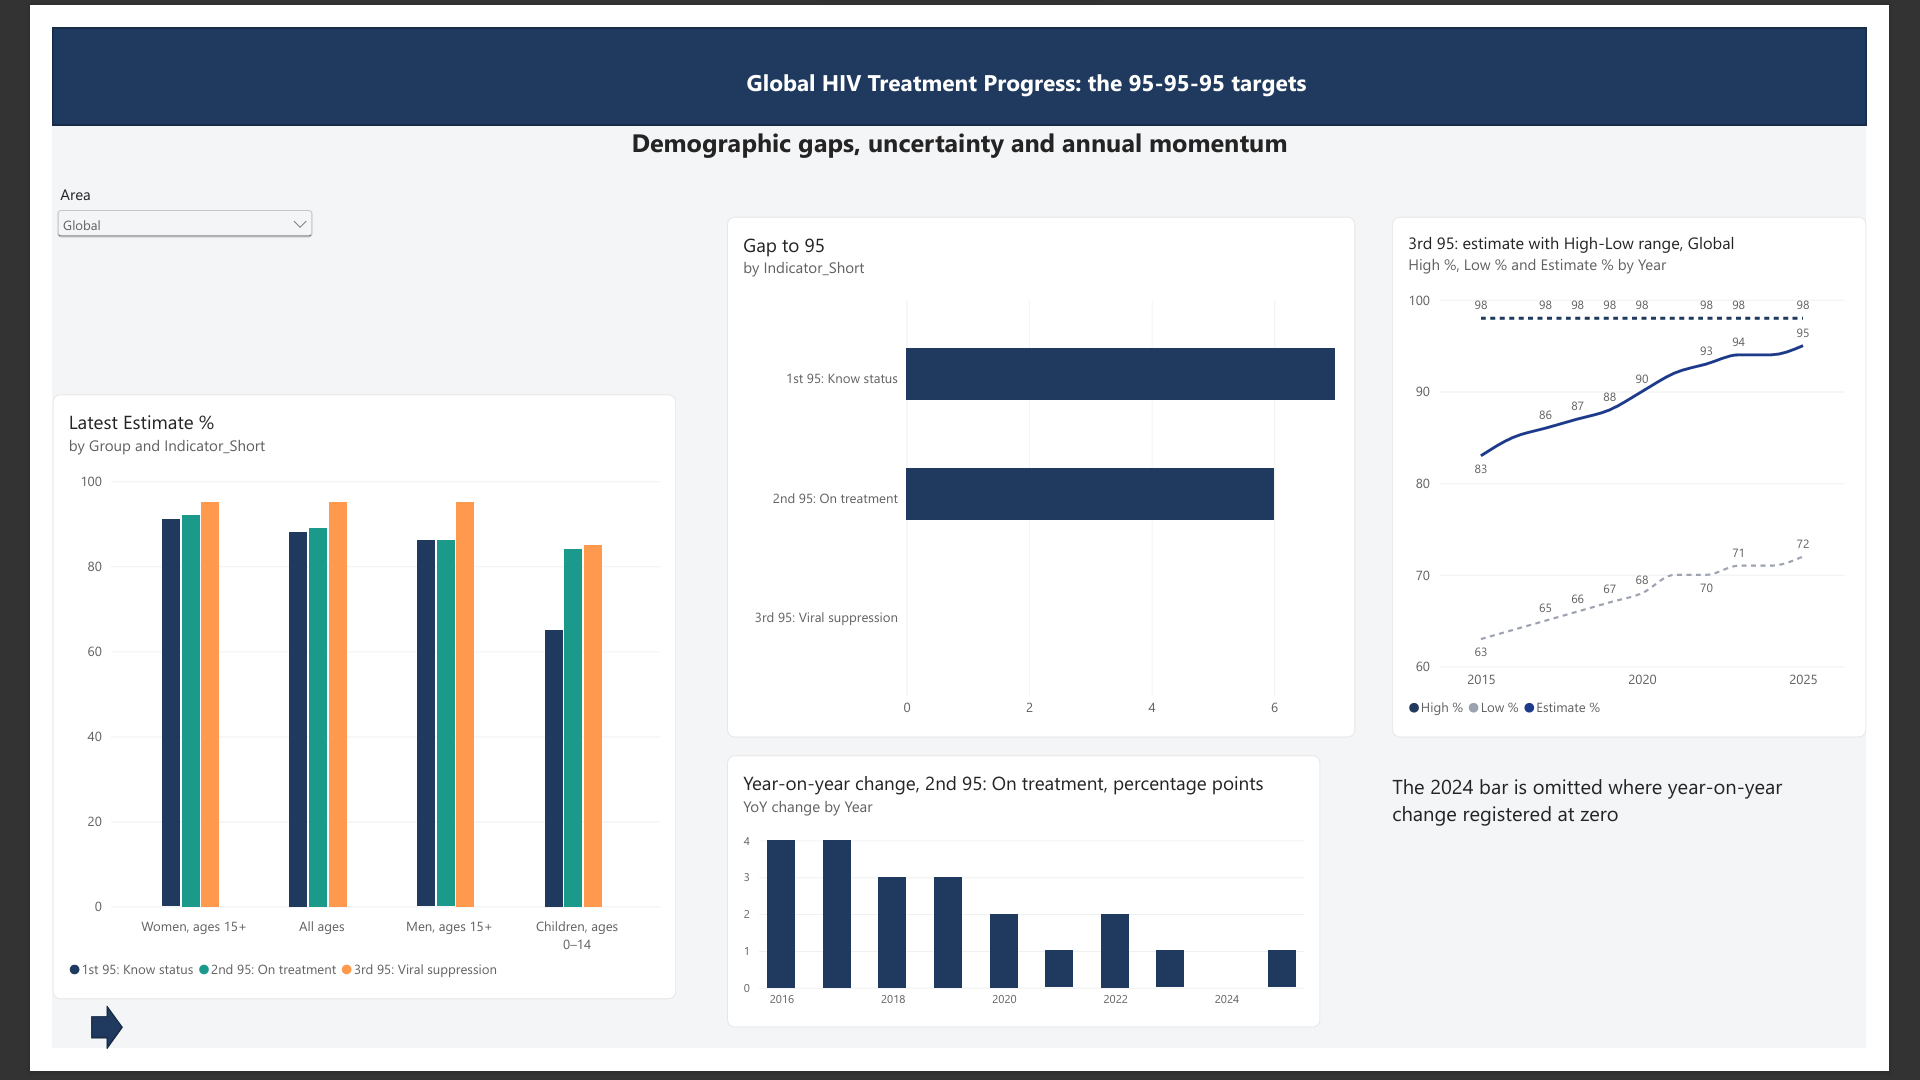

Layout of this report page (visuals, bound fields, positions):
{"tool":"powerbi","page":{"name":"Who is left behind","canvas":[1920,1080],"ordinal":2},"visuals":[{"type":"shape","box":[0,0,1920,102.5],"z":0},{"type":"textbox","box":[393.1,41.2,1276.2,144.1],"z":1000},{"type":"shape","box":[41.2,1035.3,32.9,45.3],"z":2000},{"type":"shape","box":[41.2,1034.7,32.9,45.3],"z":3000},{"type":"slicer","fields":{"Values":["HIV_Data.Area"]},"box":[0,165,280,202.5],"z":4000},{"type":"clusteredColumnChart","fields":{"Category":["HIV_Data.Group"],"Series":["HIV_Data.Indicator_Short"],"Y":["HIV_Data.Latest Estimate %"]},"box":[0,387.5,660,640],"z":5000},{"type":"barChart","fields":{"Category":["HIV_Data.Indicator_Short"],"Y":["HIV_Data.Gap to 95"]},"box":[714.2,199.7,664.8,551.6],"z":6000},{"type":"lineChart","title":"3rd 95: estimate with High-Low range, Global ","fields":{"Category":["HIV_Data.Year"],"Y":["HIV_Data.High %","HIV_Data.Low %","HIV_Data.Estimate %"]},"box":[1418.2,199.7,502.2,551.6],"z":7000},{"type":"columnChart","title":"Year-on-year change, 2nd 95: On treatment, percentage points","fields":{"Category":["HIV_Data.Year"],"Y":["HIV_Data.YoY change"]},"box":[714.2,769.8,627.8,288.2],"z":8000},{"type":"textbox","box":[0,10,333,189],"z":9000},{"type":"textbox","box":[1417.5,787.5,480,270],"z":10000},{"type":"textbox","box":[0,102.5,1920,62.5],"z":10001}]}

Visuals, with their boxes in screenshot pixels (x1, y1, x2, y2), scaled from the page's 1920x1080 canvas onto the 1920x1080 screenshot:
shape: detection(0, 0, 1919, 102)
textbox: detection(393, 41, 1669, 185)
shape: detection(41, 1035, 74, 1079)
shape: detection(41, 1035, 74, 1079)
slicer - HIV_Data.Area: detection(0, 165, 280, 368)
clusteredColumnChart - HIV_Data.Group x HIV_Data.Indicator_Short: detection(0, 388, 660, 1028)
barChart - HIV_Data.Indicator_Short x HIV_Data.Gap to 95: detection(714, 200, 1379, 751)
"3rd 95: estimate with High-Low range, Global " lineChart: detection(1418, 200, 1919, 751)
"Year-on-year change, 2nd 95: On treatment, percentage points" columnChart: detection(714, 770, 1342, 1058)
textbox: detection(0, 10, 333, 199)
textbox: detection(1418, 788, 1898, 1058)
textbox: detection(0, 102, 1919, 165)
